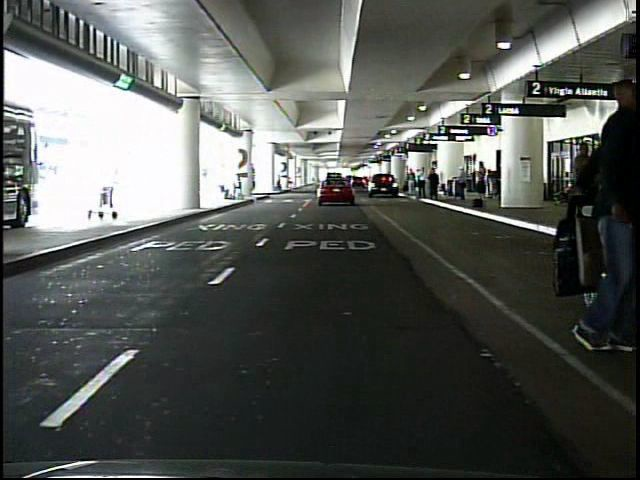person: (560, 79, 634, 356), (569, 139, 602, 249), (474, 162, 488, 207), (456, 166, 469, 203), (428, 166, 441, 202), (416, 165, 428, 199), (406, 168, 417, 197), (232, 173, 244, 199), (275, 172, 284, 189)
